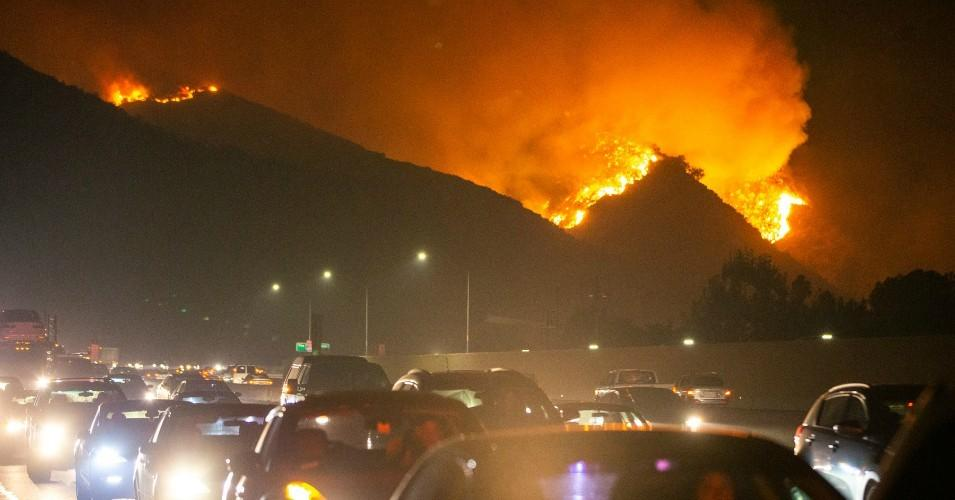fire: (722, 168, 808, 238), (589, 139, 658, 181), (550, 179, 600, 229), (101, 82, 150, 105)
